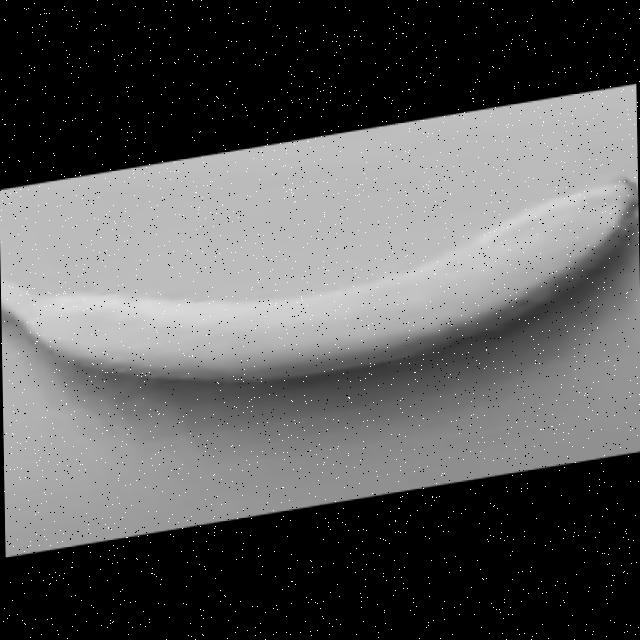banana: (0, 179, 640, 386)
